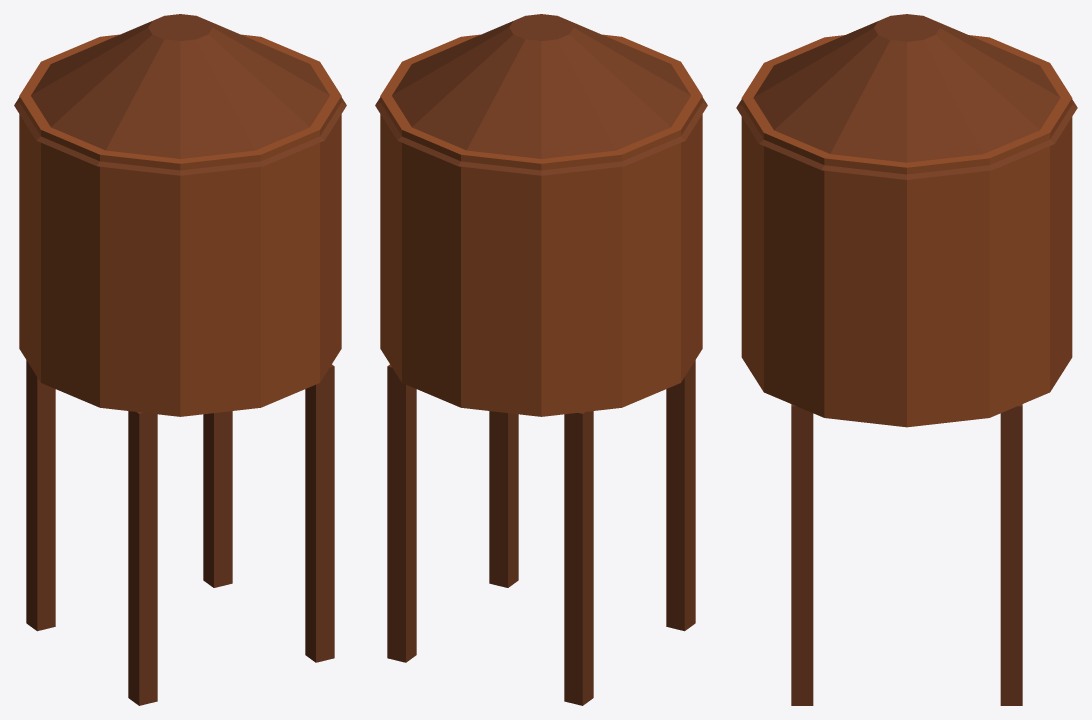
The model's file is water_tank.glb.
3 renders of one model, left to right at view 1: azimuth 30°, elevation 25°; view 2: azimuth 150°, elevation 25°; view 3: azimuth 270°, elevation 25°, orthographic. The views are drawn at different scales.
Parts seen in each view (by area): view 1: water_tank; view 2: water_tank; view 3: water_tank.
Part boxes in pixels (box(x1,y1,x2,y2)): water_tank: box(14, 14, 346, 705); water_tank: box(375, 14, 707, 705); water_tank: box(736, 14, 1077, 705).
Bounding box in the file's own units: 3.1 × 6.3 × 3.1.
